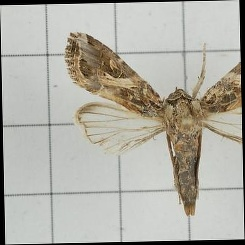Spodoptera litura: (65, 30, 242, 217)
